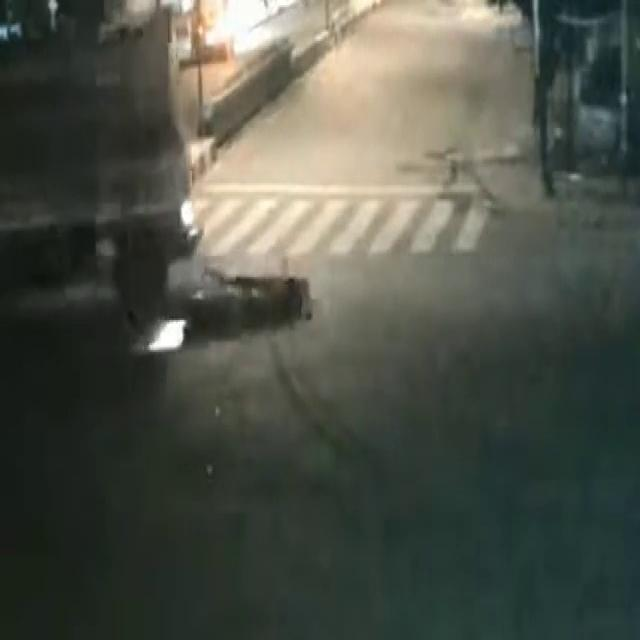accident: (0, 158, 319, 424)
